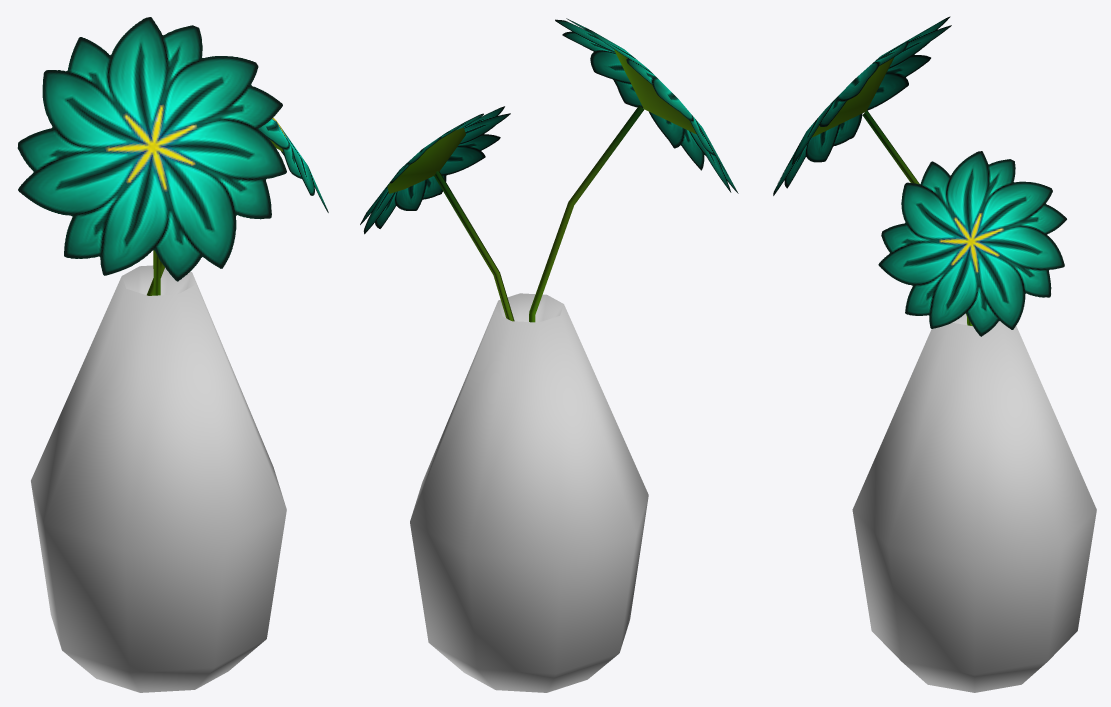
File: Flowers_D.FBX
3 views of the same model, side by side, from view 1: azimuth 30°, elevation 25°; view 2: azimuth 150°, elevation 25°; view 3: azimuth 270°, elevation 25° (orthographic). The views are drawn at different scales.
Visible parts, largest first — view 1: Vase_And_Flowers; view 2: Vase_And_Flowers; view 3: Vase_And_Flowers.
Part boxes in pixels (x1,y1,x2,y2): Vase_And_Flowers: (17,17,328,692); Vase_And_Flowers: (360,18,738,692); Vase_And_Flowers: (773,16,1096,692).
Bounding box in the file's own units: 80.48 × 155 × 73.7.
